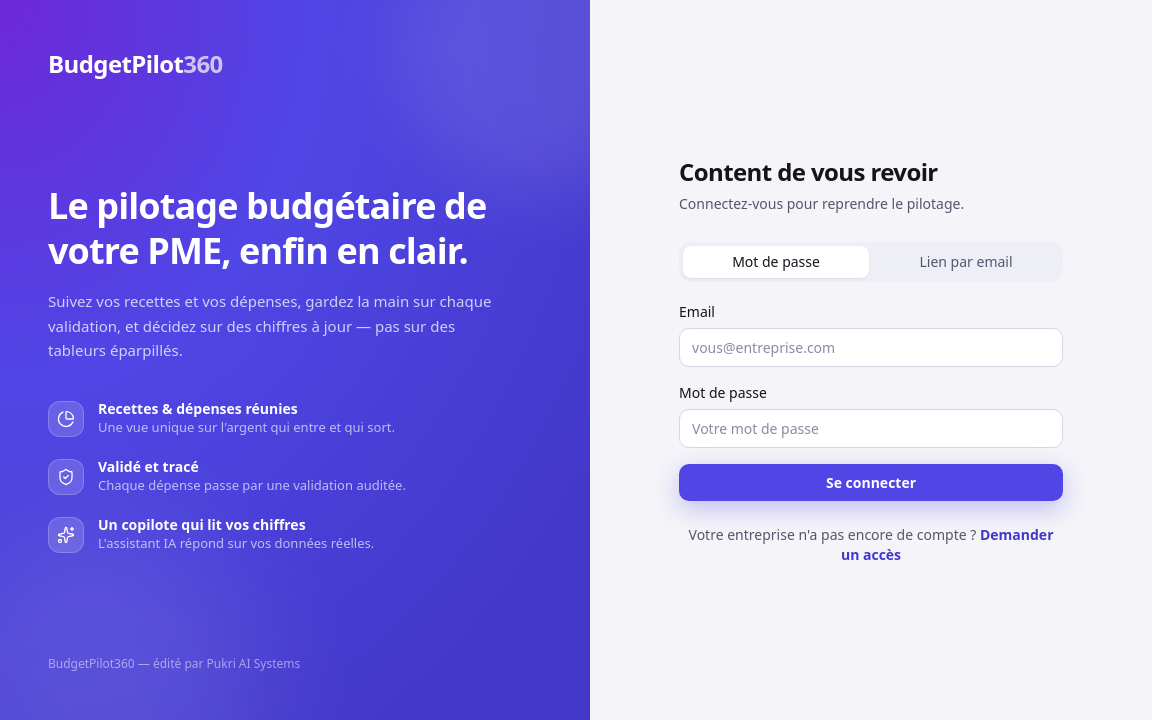
Scenario: LoginPage › affiche un message français sur identifiants invalides
Type "x@acme-corp.fr" into the field labelled "Email" at [871, 347], box [679,328,1063,366]
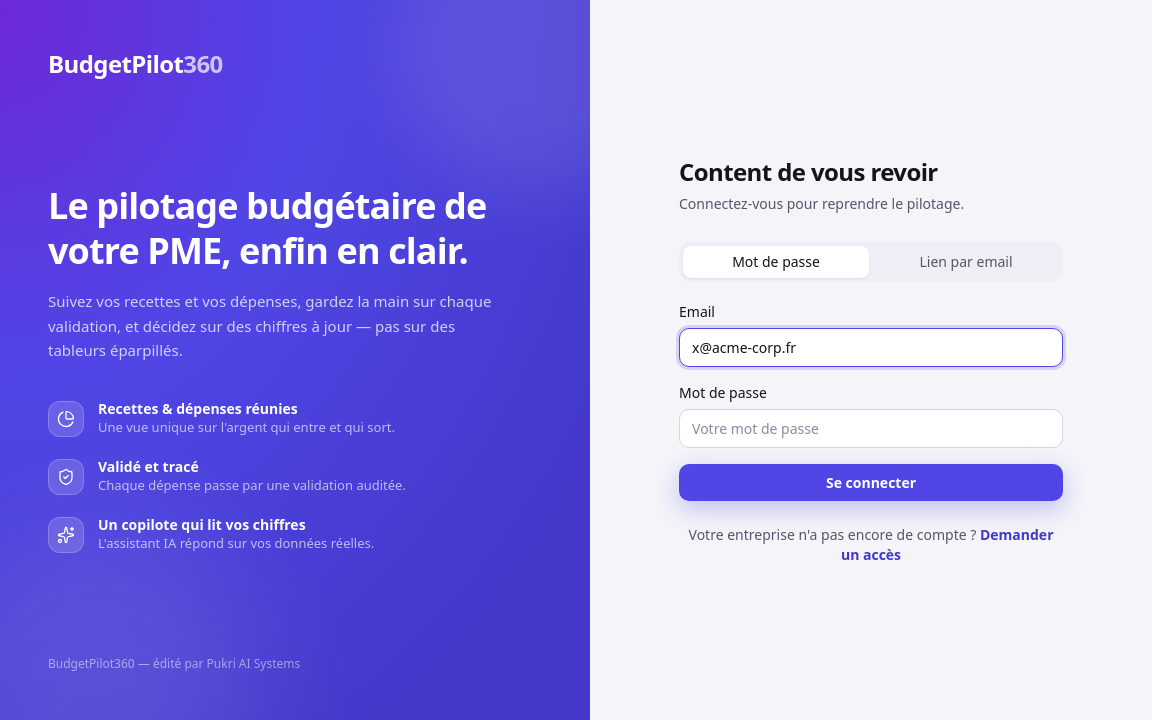
Type "mauvais" into the password field labelled "Mot de passe" at [871, 428], box [679,408,1063,448]
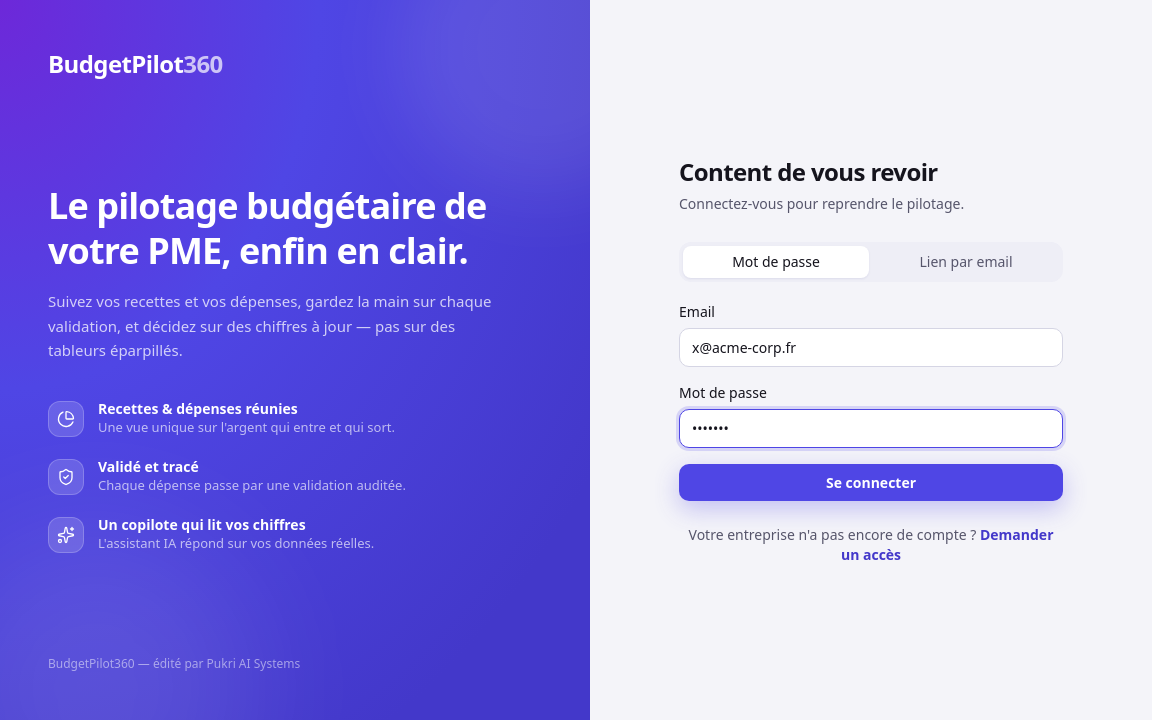
Click the button "Se connecter" at [871, 482], box [679,464,1063,500]
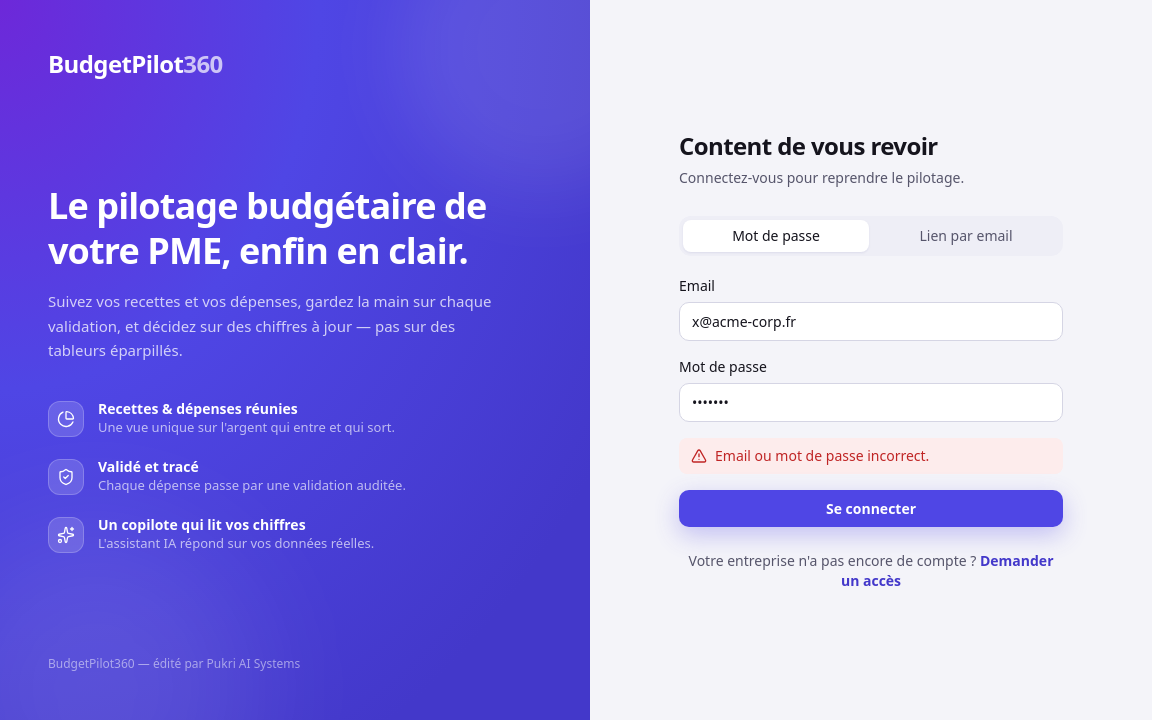
Now the text "Email ou mot de passe incorrect." is shown, box [715,446,929,466]
